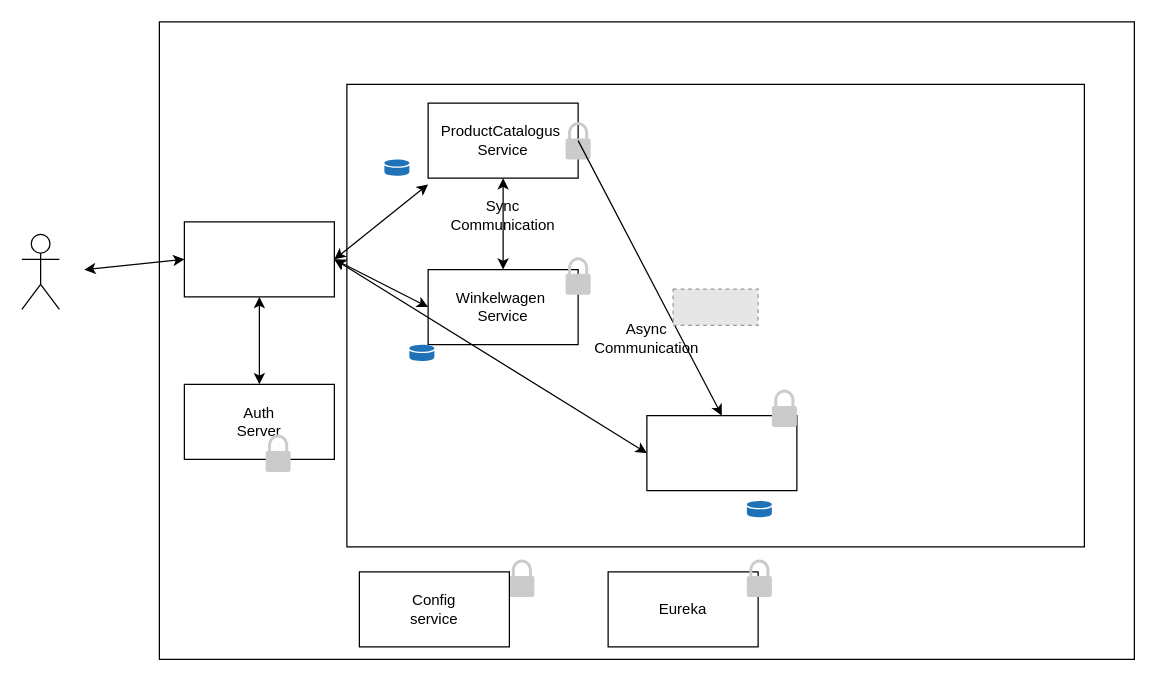
Image size: 1156x681. Some labels were removed from this diagram. Grey dashed boxes stand in for pictures. Here are the shapes that lost their labels. From the top down, the centre of each, then its label:
the point at 40,271: Actor
the point at 258,259: API Gateway
the point at 721,452: Logboek Service
